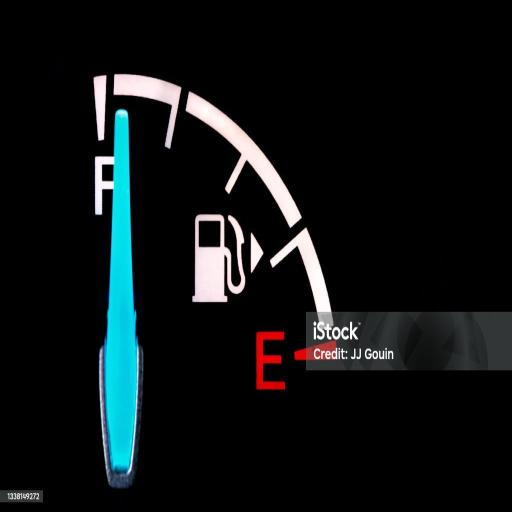empty: (252, 325, 287, 397)
fuel_icon: (188, 209, 264, 308)
full: (89, 154, 119, 221)
guage_area: (76, 66, 346, 500)
needle_center: (87, 325, 153, 495)
needle_tip: (111, 106, 135, 138)
